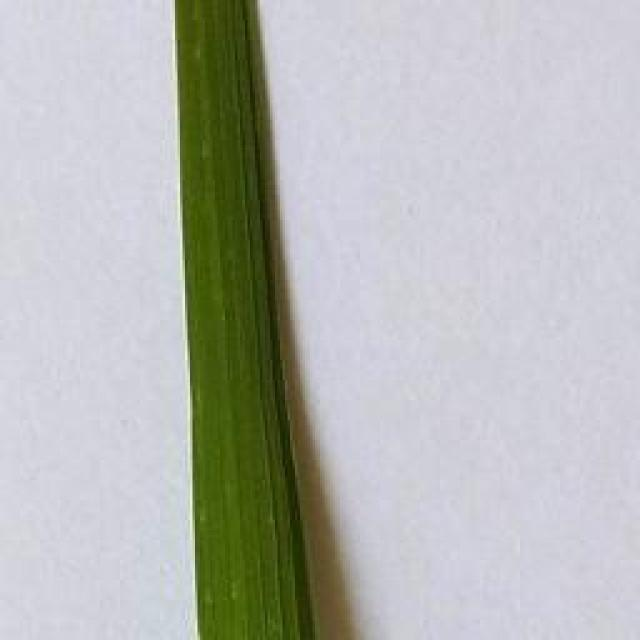Healthy: (172, 0, 309, 640)
